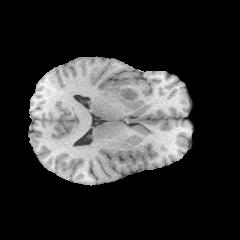glioma: (111, 77, 146, 104)
